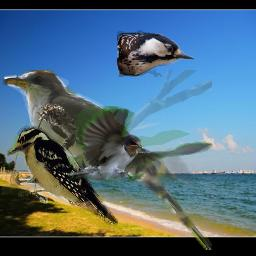Cuckoo: (2, 70, 212, 250)
Swallow: (68, 106, 213, 182)
Woodpecker: (7, 123, 118, 226), (117, 29, 194, 77)
